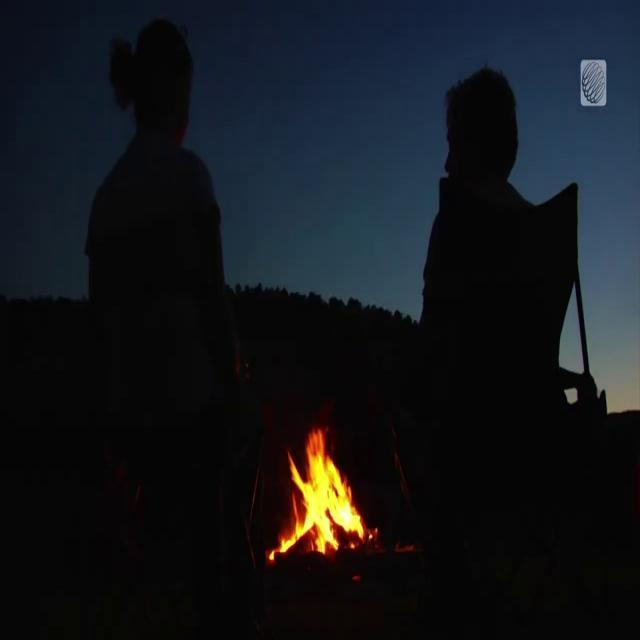Fire: (281, 418, 367, 556)
